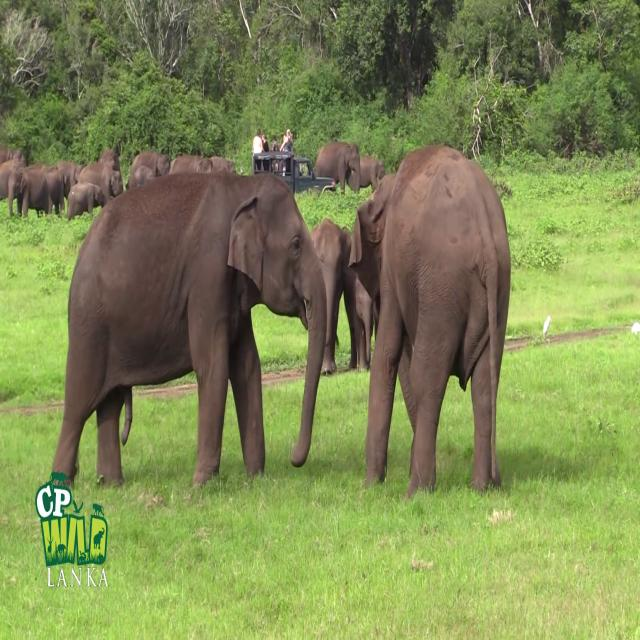Elephant: (51, 169, 328, 490), (364, 143, 511, 500)
